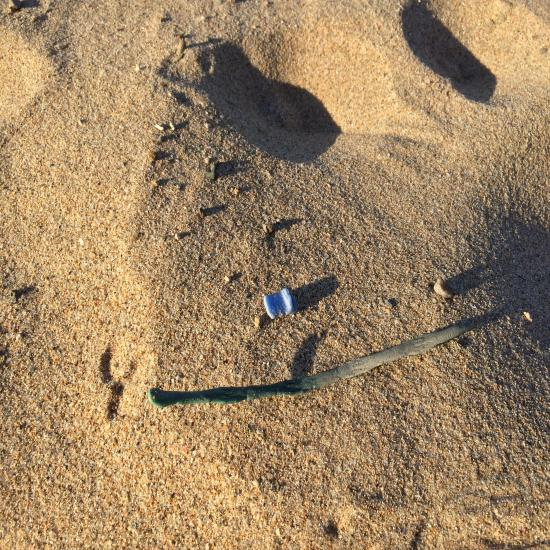Other plastic bottle: (148, 322, 473, 408), (263, 288, 297, 319)
